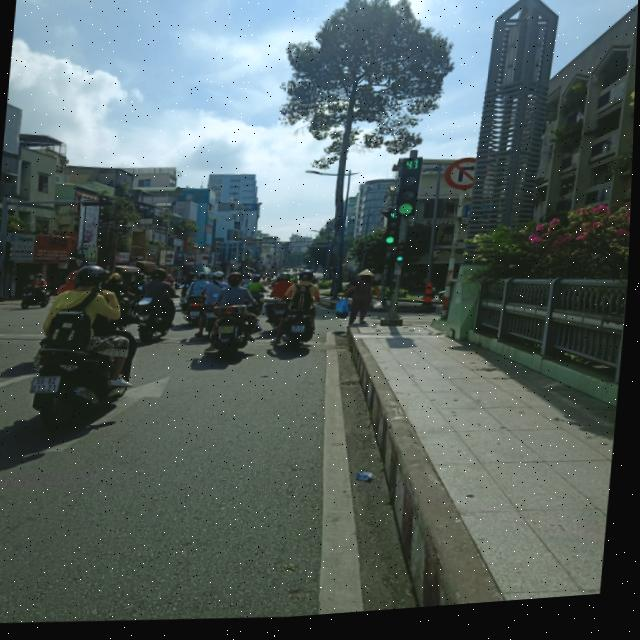Green: (391, 174, 432, 222), (392, 242, 416, 274)
